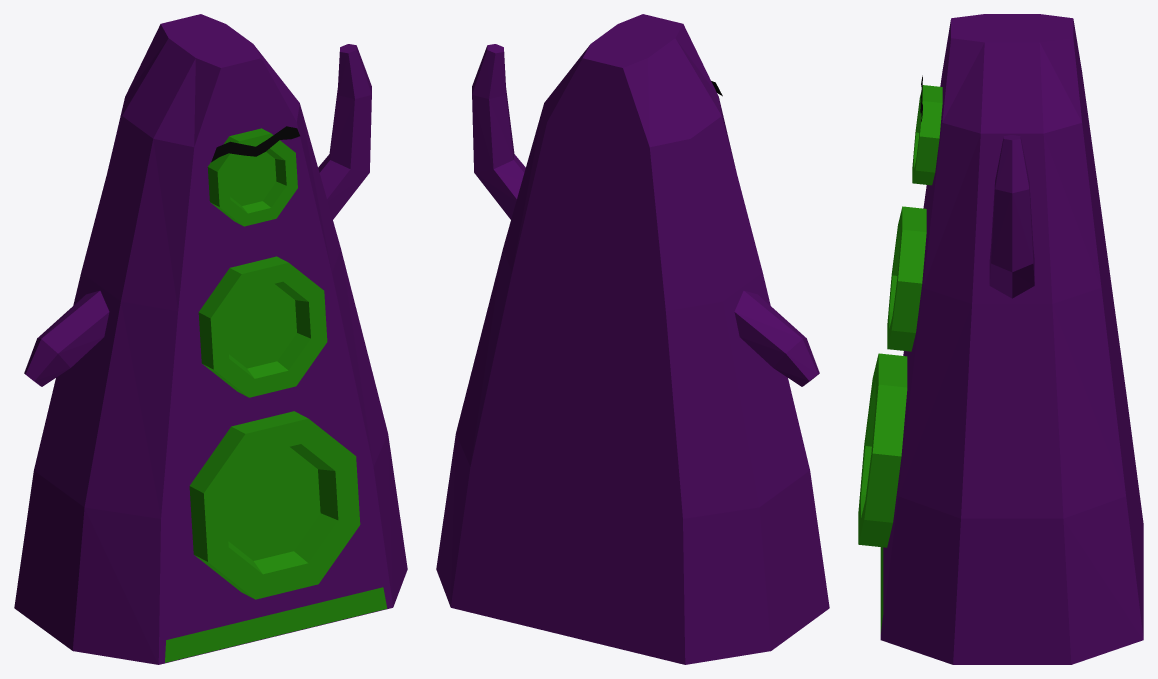
File: tentacule-B-20cm.obj
3 views of the same model, side by side, from view 1: azimuth 30°, elevation 25°; view 2: azimuth 150°, elevation 25°; view 3: azimuth 270°, elevation 25° (orthographic).
Visible parts, largest first — view 1: C_Corps, V1, V2, V3, BD_Bras_leve, P_Bande_verte, BG_Bras_bas, S_Sourcil; view 2: C_Corps, BD_Bras_leve, BG_Bras_bas; view 3: C_Corps, V1, BD_Bras_leve, V2, V3.
Part boxes in pixels (left/top/right/bottom): C_Corps: left=14, top=14, right=407, bottom=664; V1: left=189, top=411, right=360, bottom=599; V2: left=198, top=256, right=327, bottom=397; V3: left=207, top=128, right=297, bottom=226; BD_Bras_leve: left=318, top=44, right=371, bottom=219; P_Bande_verte: left=165, top=587, right=387, bottom=662; BG_Bras_bas: left=24, top=290, right=109, bottom=386; S_Sourcil: left=211, top=126, right=299, bottom=162; C_Corps: left=436, top=14, right=829, bottom=664; BD_Bras_leve: left=472, top=44, right=525, bottom=219; BG_Bras_bas: left=734, top=290, right=819, bottom=386; C_Corps: left=880, top=14, right=1143, bottom=664; V1: left=858, top=353, right=907, bottom=547; BD_Bras_leve: left=989, top=135, right=1034, bottom=298; V2: left=887, top=206, right=926, bottom=351; V3: left=912, top=85, right=942, bottom=185.
Size of the model in its own units: 13.48 by 20 by 9.34.
